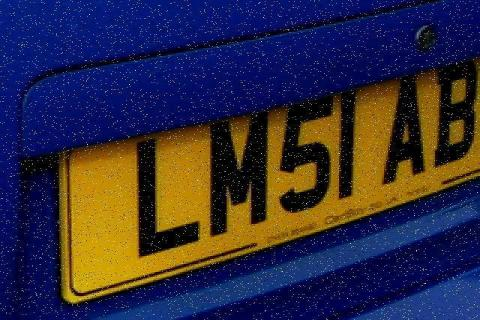LicensePlate: (46, 66, 480, 262)
